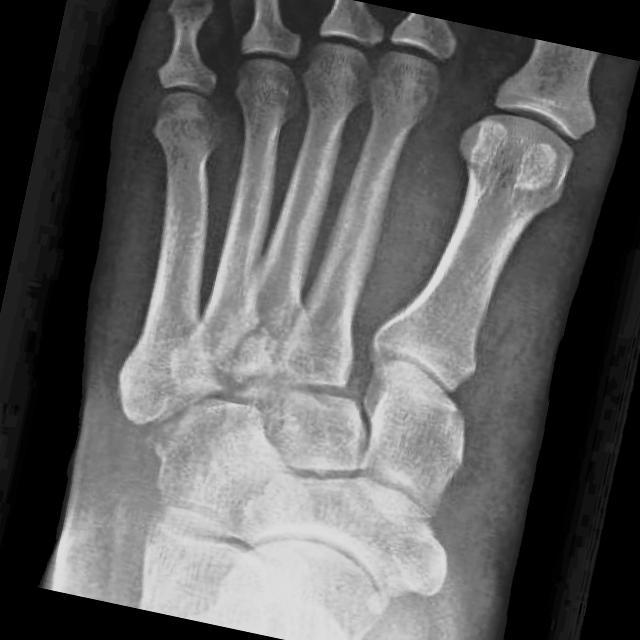Fracture Dislocation: (280, 356, 368, 478)
